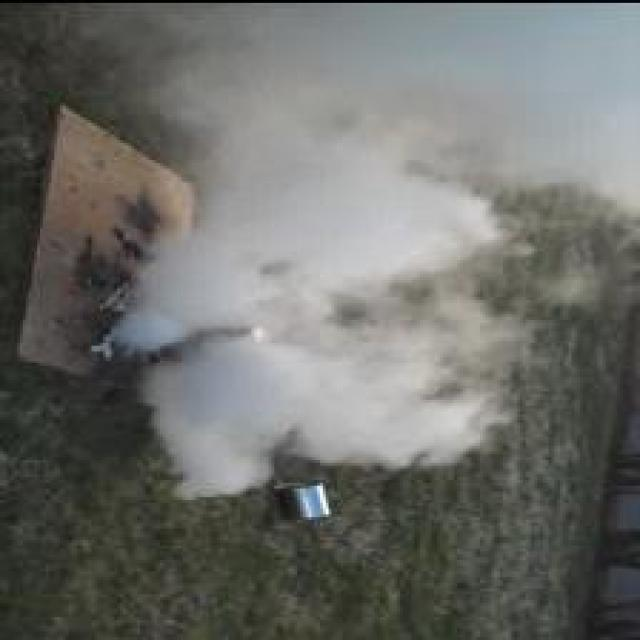Smoke: (84, 2, 640, 502)
